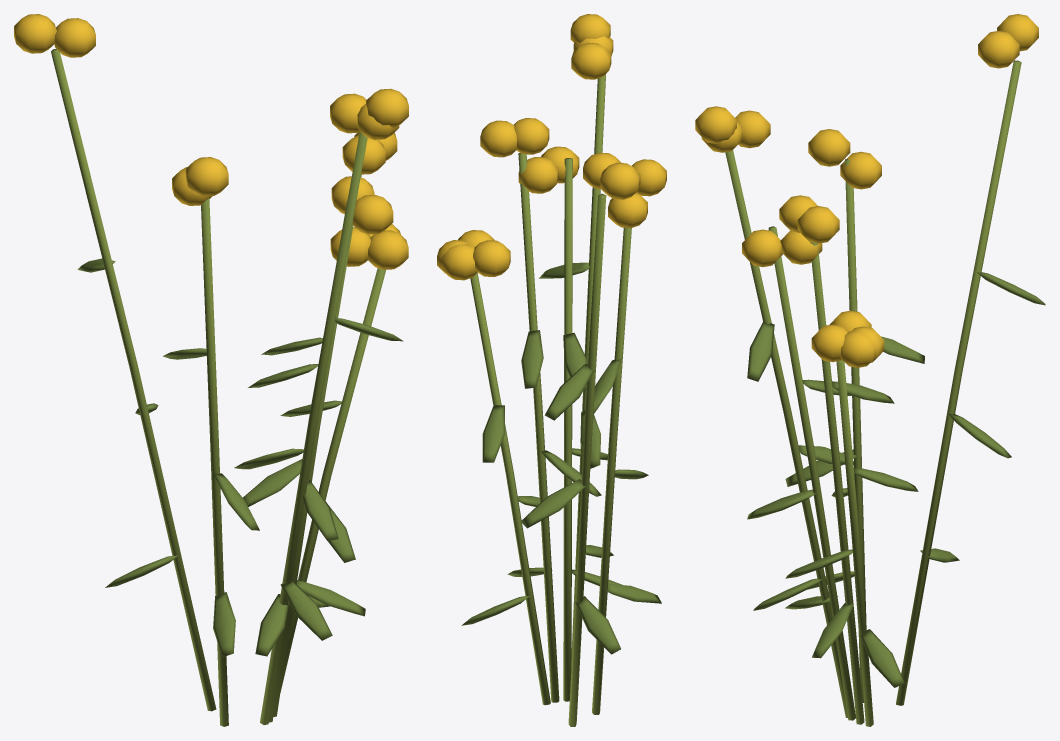
Rendered from weed_tansy.fbx.
3 renders of one model, left to right at view 1: azimuth 30°, elevation 25°; view 2: azimuth 150°, elevation 25°; view 3: azimuth 270°, elevation 25°, orthographic. The views are drawn at different scales.
Parts seen in each view (by area): view 1: weed_tansy; view 2: weed_tansy; view 3: weed_tansy.
Boxes of the visible parts, left/top/right/bottom form: weed_tansy: left=14, top=14, right=408, bottom=726; weed_tansy: left=437, top=14, right=666, bottom=726; weed_tansy: left=695, top=14, right=1045, bottom=726.
Bounding box in the file's own units: 0.4438 × 0.9597 × 0.4785.
